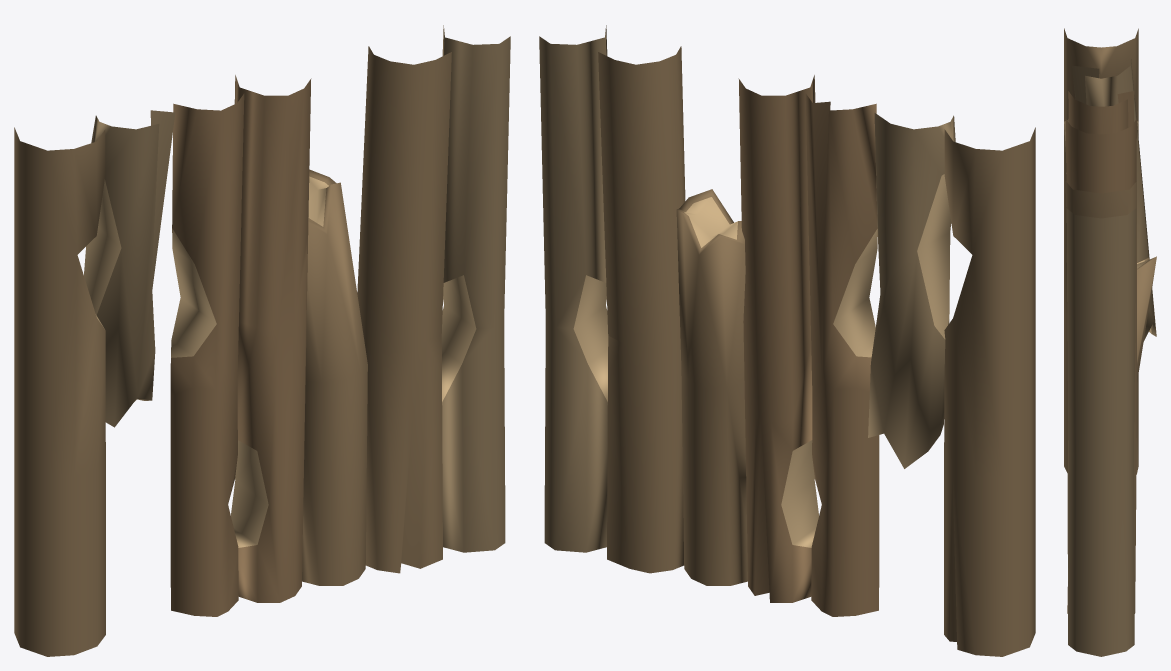
The model's file is rpgpp_av_wall_04_3x3_c.gltf.
The picture shows the model from 3 angles, left to right: view 1: azimuth 30°, elevation 25°; view 2: azimuth 150°, elevation 25°; view 3: azimuth 270°, elevation 25°; orthographic projection. The views are drawn at different scales.
Parts seen in each view (by area): view 1: rpgpp_av_wall_04_3x3_c; view 2: rpgpp_av_wall_04_3x3_c; view 3: rpgpp_av_wall_04_3x3_c.
Part boxes in pixels (box(x1,y1,x2,y2)): rpgpp_av_wall_04_3x3_c: box(14, 25, 510, 656); rpgpp_av_wall_04_3x3_c: box(539, 25, 1035, 656); rpgpp_av_wall_04_3x3_c: box(1064, 28, 1156, 656).
Size of the model in its own units: 0.03 by 0.03 by 0.00576.
1 material, 1 textured.
